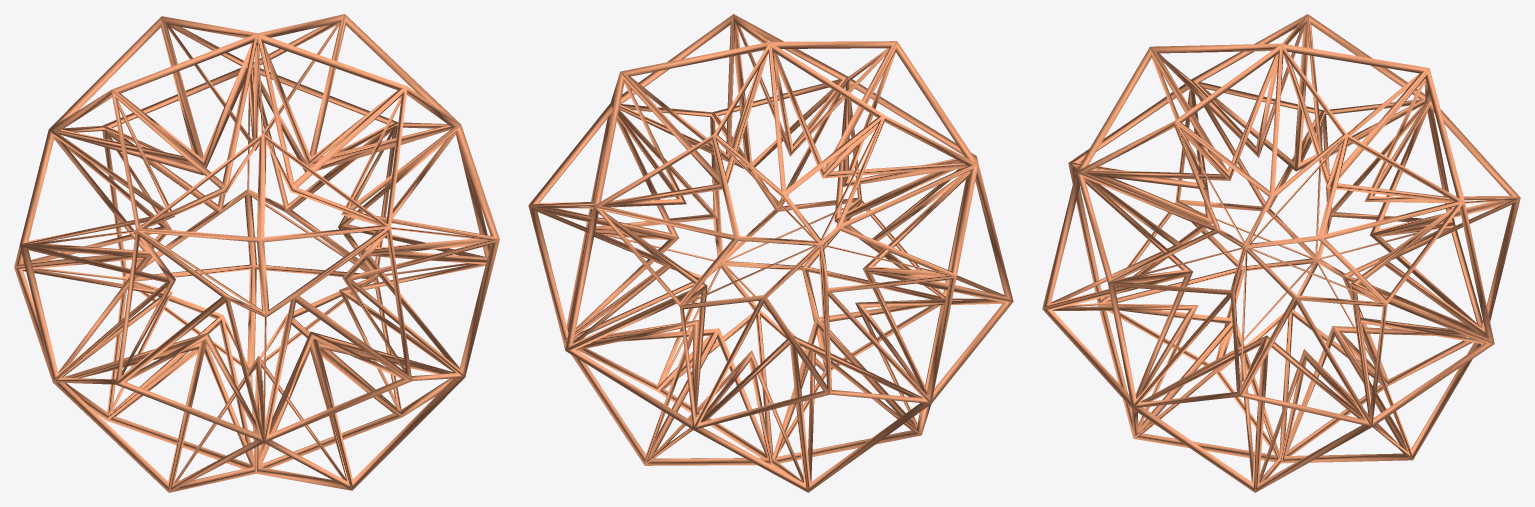
Rendered from Mobius120b1.glb.
3 renders of one model, left to right at view 1: azimuth 30°, elevation 25°; view 2: azimuth 150°, elevation 25°; view 3: azimuth 270°, elevation 25°, orthographic. The views are drawn at different scales.
Parts seen in each view (by area): view 1: Mobius120b; view 2: Mobius120b; view 3: Mobius120b.
Boxes of the visible parts, bbox=[...] form: Mobius120b: bbox=[14, 14, 499, 492]; Mobius120b: bbox=[528, 14, 1013, 492]; Mobius120b: bbox=[1042, 14, 1520, 492].
Size of the model in its own units: 3.14 by 3.07 by 3.16.
